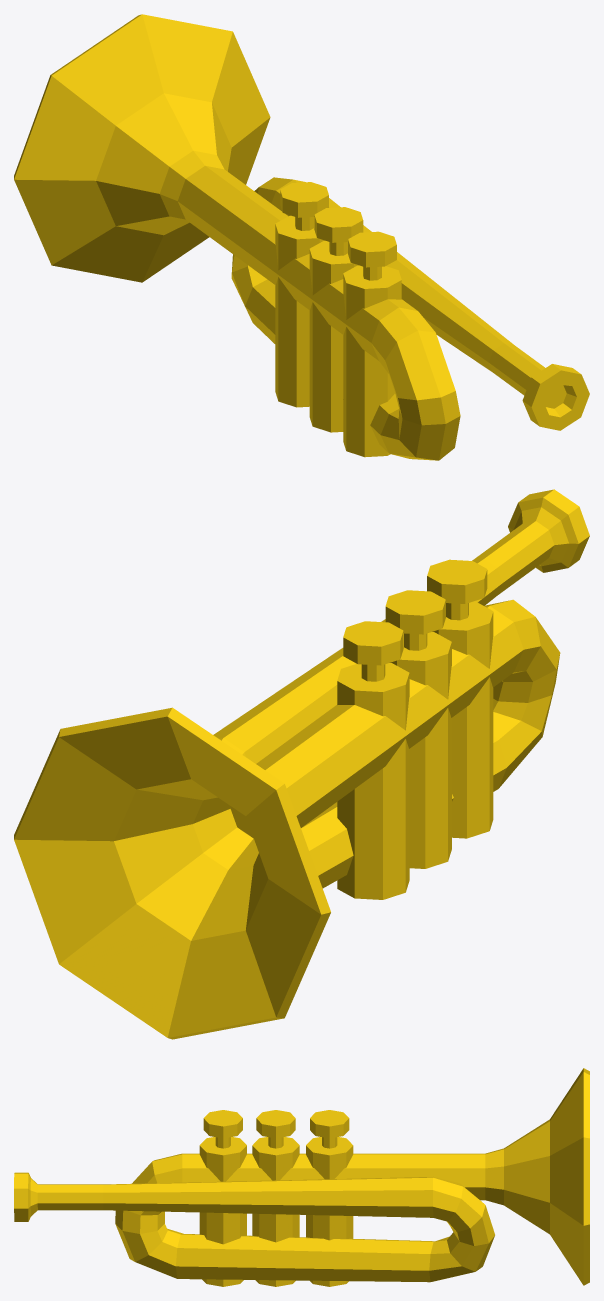
Rendered from Trumpet.obj.
The picture shows the model from 3 angles, top to bottom: view 1: azimuth 30°, elevation 25°; view 2: azimuth 150°, elevation 25°; view 3: azimuth 270°, elevation 25°; orthographic projection. The views are drawn at different scales.
Visible parts, largest first — view 1: trumpet_Circle.006; view 2: trumpet_Circle.006; view 3: trumpet_Circle.006.
Boxes of the visible parts, left/top/right/bottom form: trumpet_Circle.006: left=14, top=14, right=589, bottom=460; trumpet_Circle.006: left=14, top=489, right=589, bottom=1039; trumpet_Circle.006: left=14, top=1068, right=589, bottom=1286.
Size of the model in its own units: 4.48 by 4.48 by 11.14.
